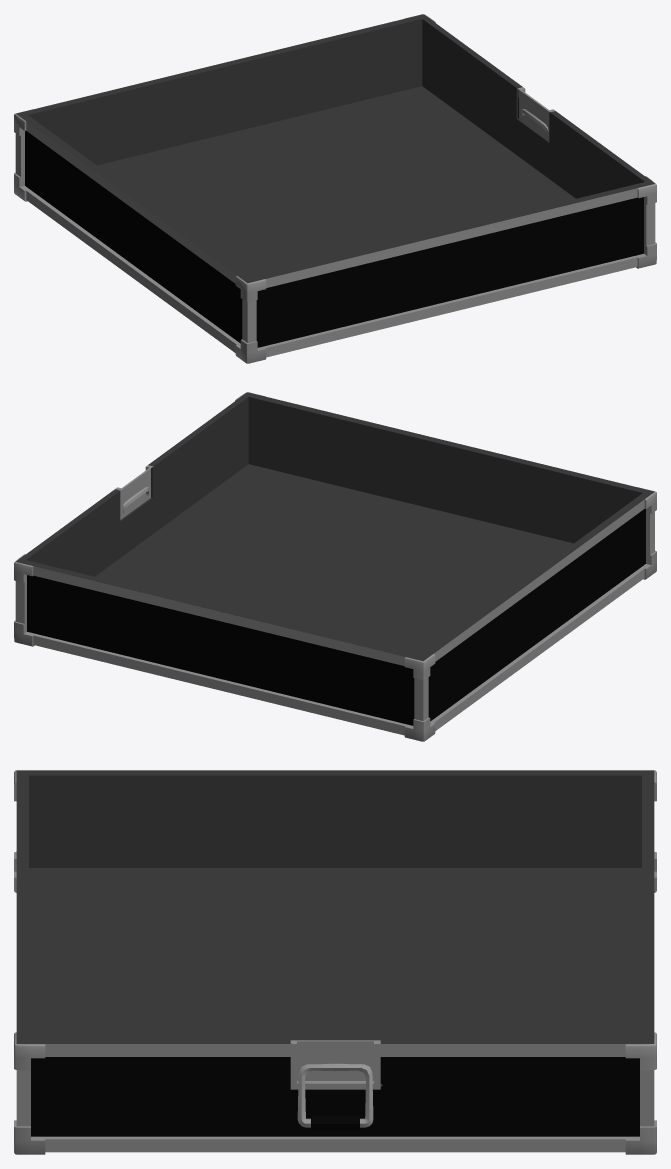
The model's file is StorageCrate_09a.glb.
3 renders of one model, top to bottom at view 1: azimuth 30°, elevation 25°; view 2: azimuth 150°, elevation 25°; view 3: azimuth 270°, elevation 25°, orthographic. The views are drawn at different scales.
Parts seen in each view (by area): view 1: Mesh_StorageCrate_09a; view 2: Mesh_StorageCrate_09a; view 3: Mesh_StorageCrate_09a.
Part boxes in pixels (x1,y1,x2,y2): Mesh_StorageCrate_09a: (14,14,656,363); Mesh_StorageCrate_09a: (14,392,656,741); Mesh_StorageCrate_09a: (14,770,656,1154).
Size of the model in its own units: 1.03 by 0.1872 by 0.9853.
1 material, 1 textured.
